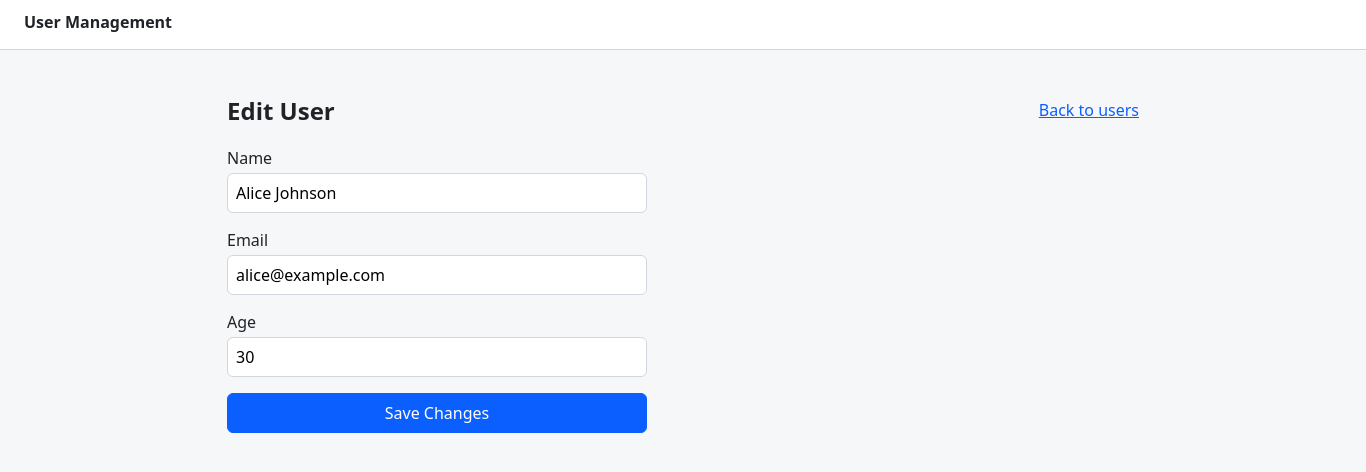
Edit user page › saves the changes and shows the updated user
The image size is (1366, 472).
Replace the text in the field labelled "Name" with "Alice Smith". click: (437, 193)
box: top-left (227, 173), bottom-right (647, 213)
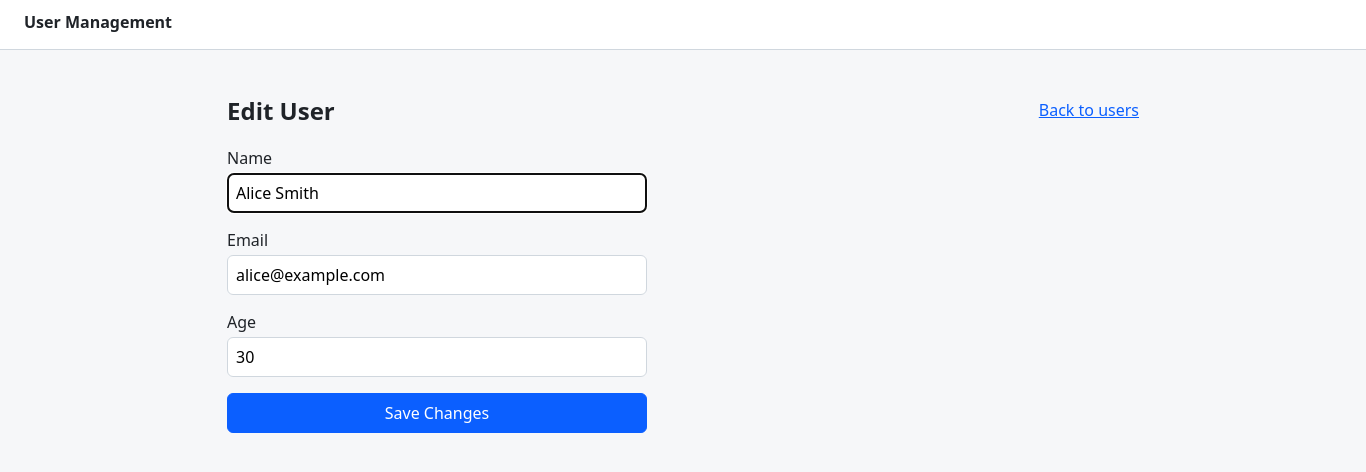
Replace the text in the number field labelled "Age" with "31". click: (437, 357)
box: top-left (227, 337), bottom-right (647, 377)
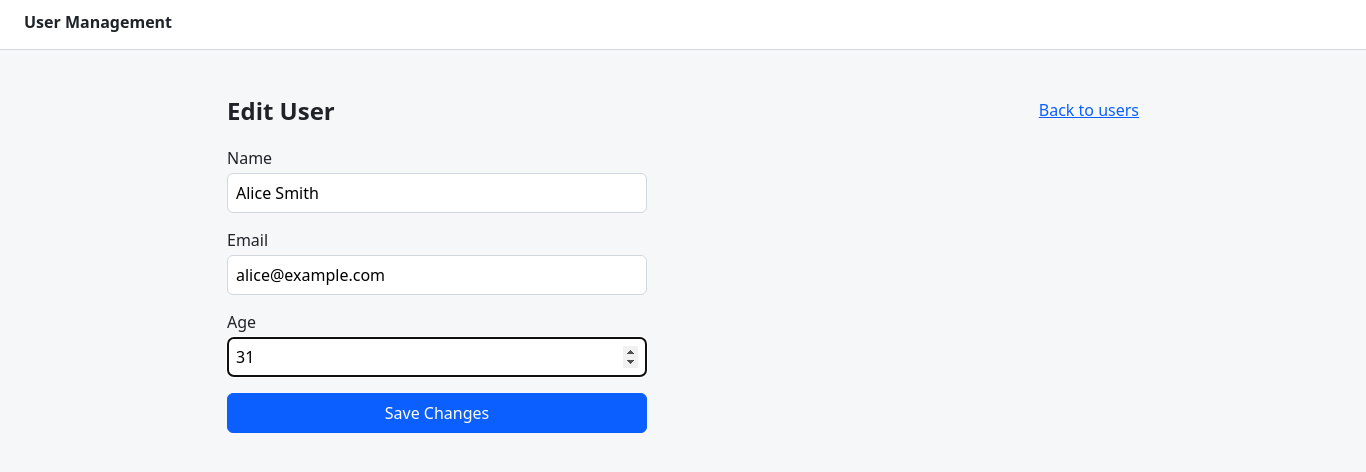
Click the button "Save Changes". click: (437, 413)
box: top-left (227, 393), bottom-right (647, 433)
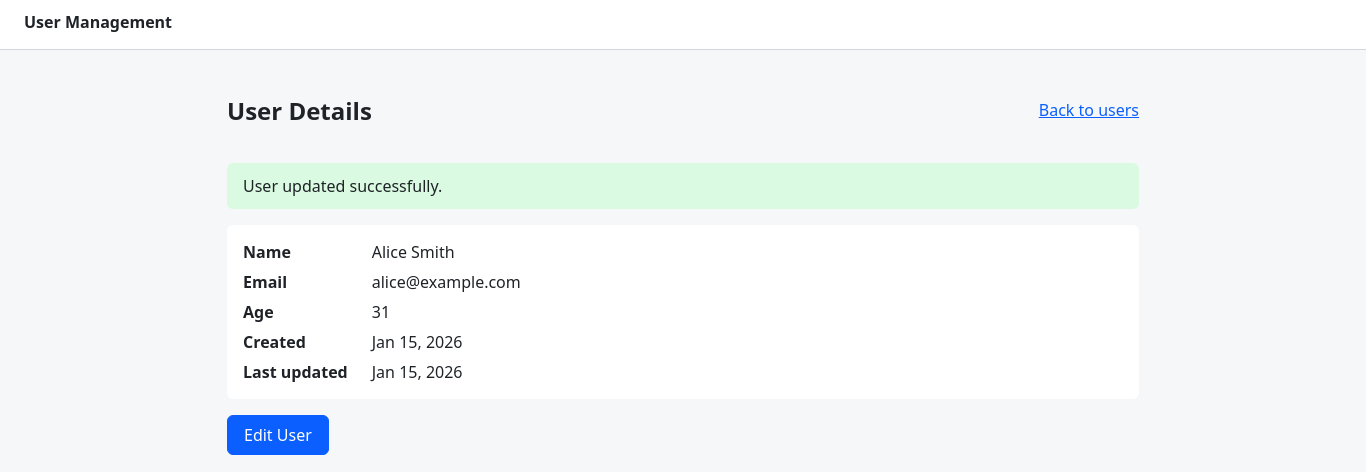
Result: the text "User updated successfully." is shown at top-left (227, 163), bottom-right (1139, 209)
Result: the text "Alice Smith" is shown at top-left (372, 241), bottom-right (455, 263)
